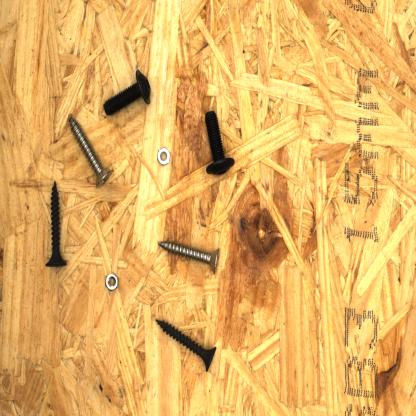screw: (64, 110, 116, 192), (152, 314, 218, 374), (100, 66, 154, 120), (156, 236, 224, 277), (200, 106, 237, 178), (42, 178, 70, 270)
